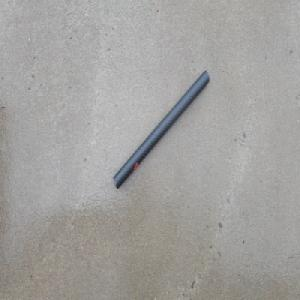LuggagePart: (112, 69, 209, 190)
